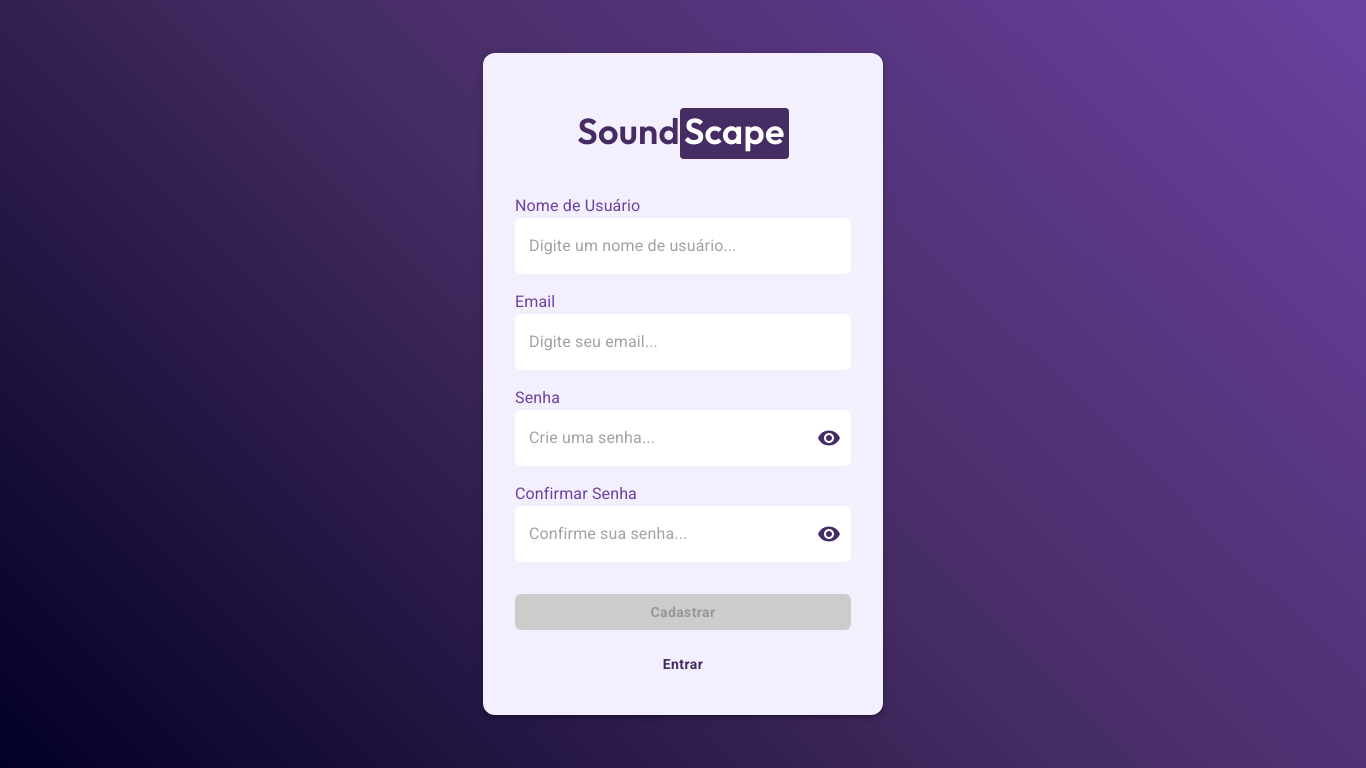
Test: Register Component › deve exibir notificação de erro genérico quando a API retorna um erro desconhecido
Type "user" into the field with placeholder "Digite um nome de usuário..." at (683, 246), box x1=515 y1=218 x2=851 y2=274
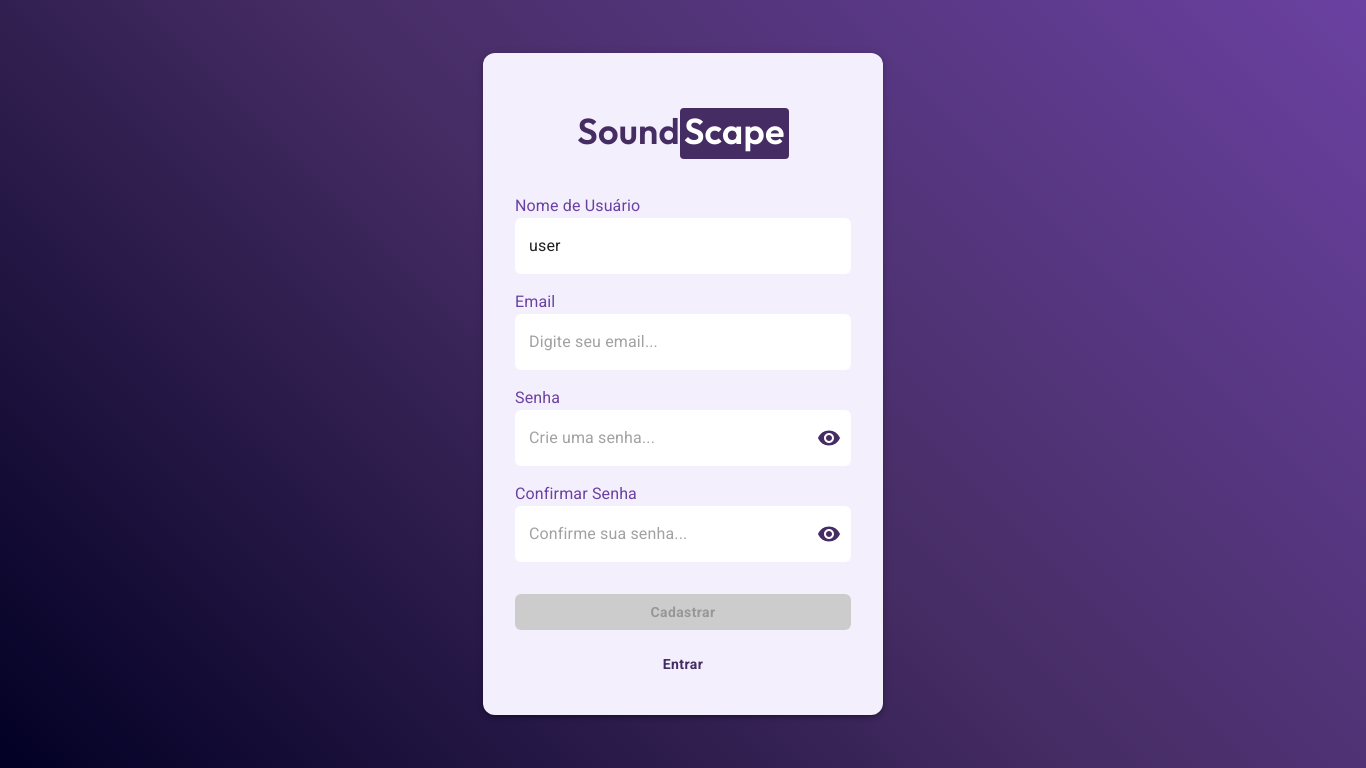
Type "user@example.com" into the field with placeholder "Digite seu email..." at (683, 342), box x1=515 y1=314 x2=851 y2=370
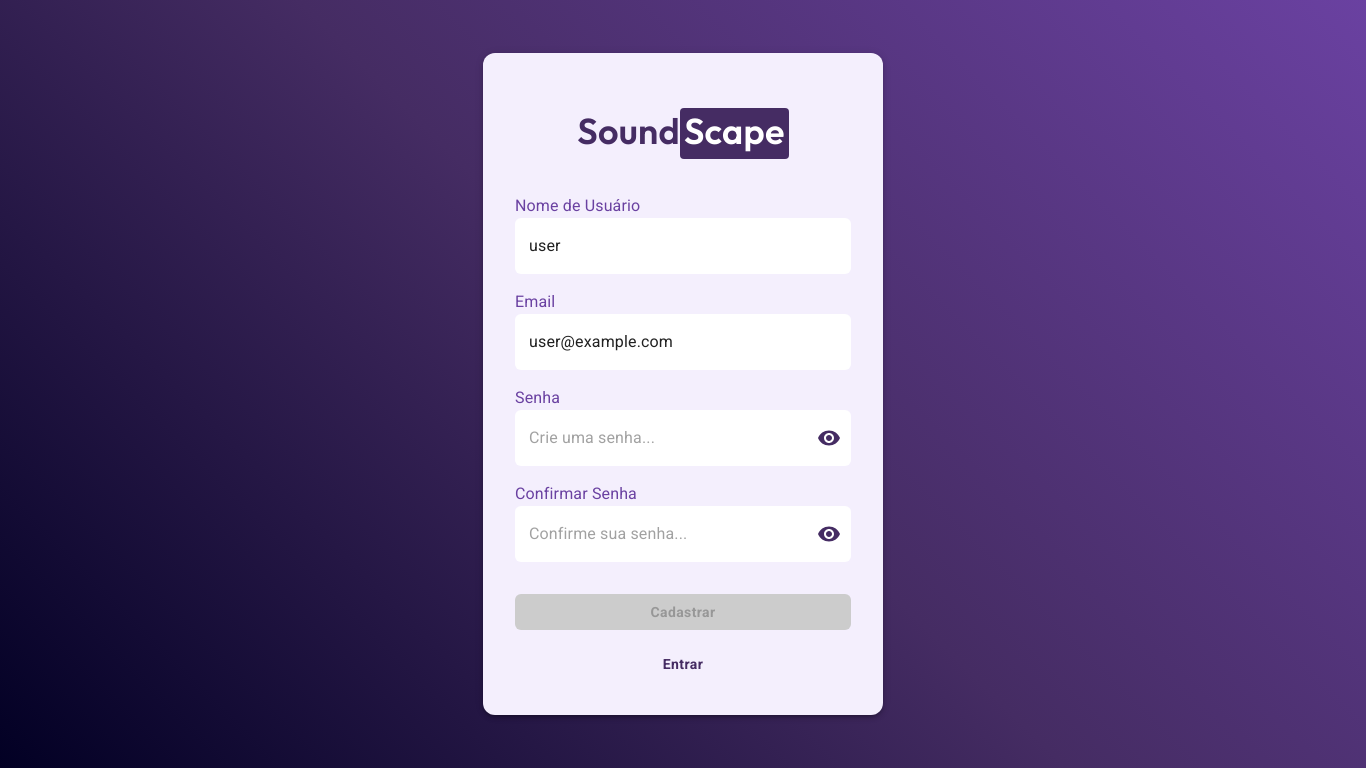
Type "Password123!" into the password field with placeholder "Crie uma senha..." at (658, 438), box x1=515 y1=410 x2=801 y2=466
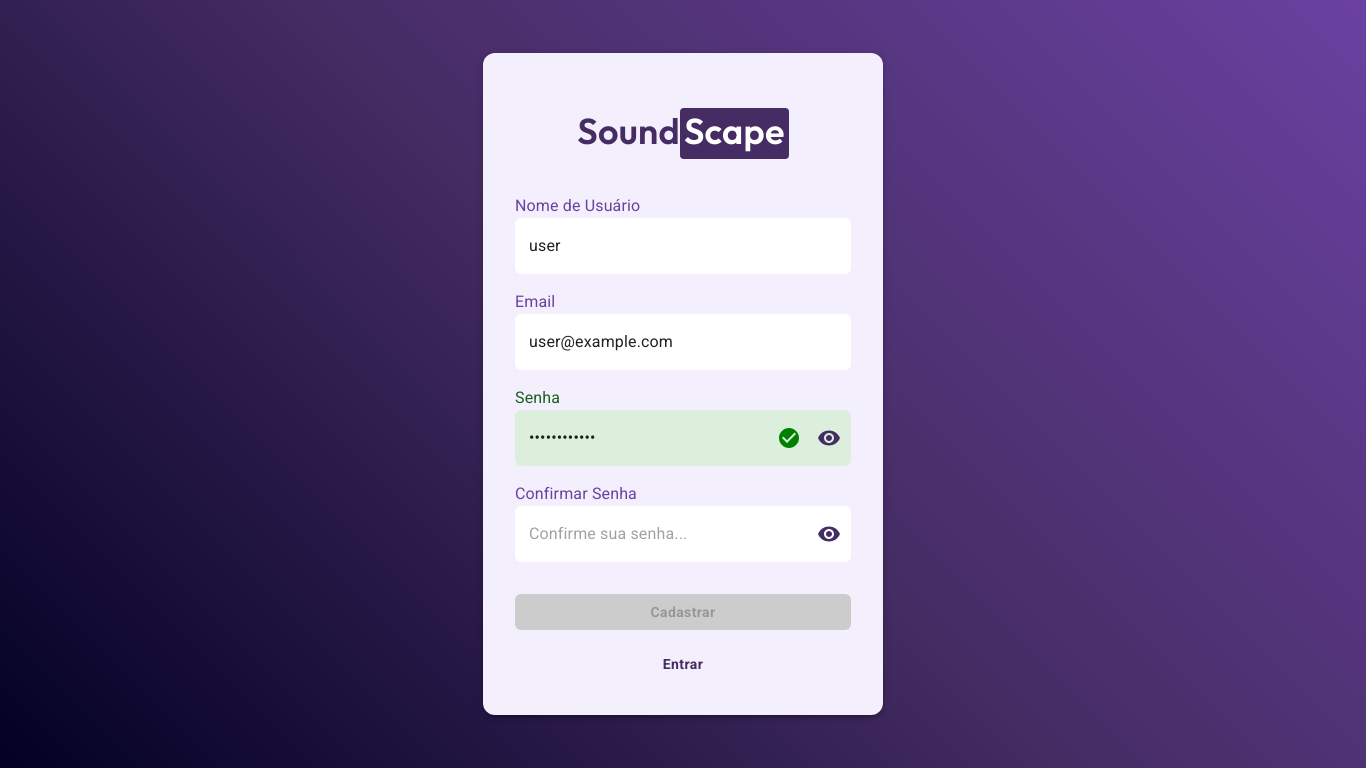
Type "Password123!" into the password field with placeholder "Confirme sua senha..." at (658, 534), box x1=515 y1=506 x2=801 y2=562
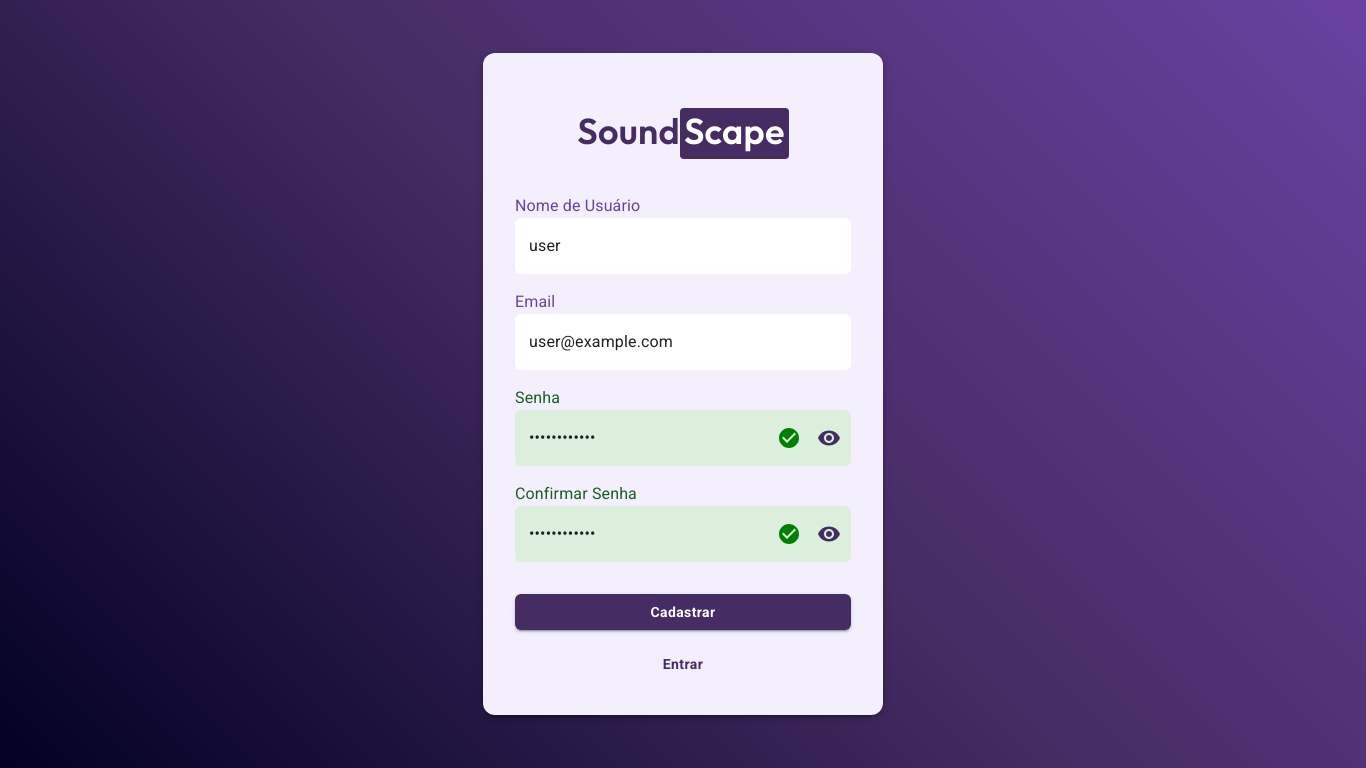
Click the button "Cadastrar" at (683, 612), box x1=515 y1=594 x2=851 y2=630
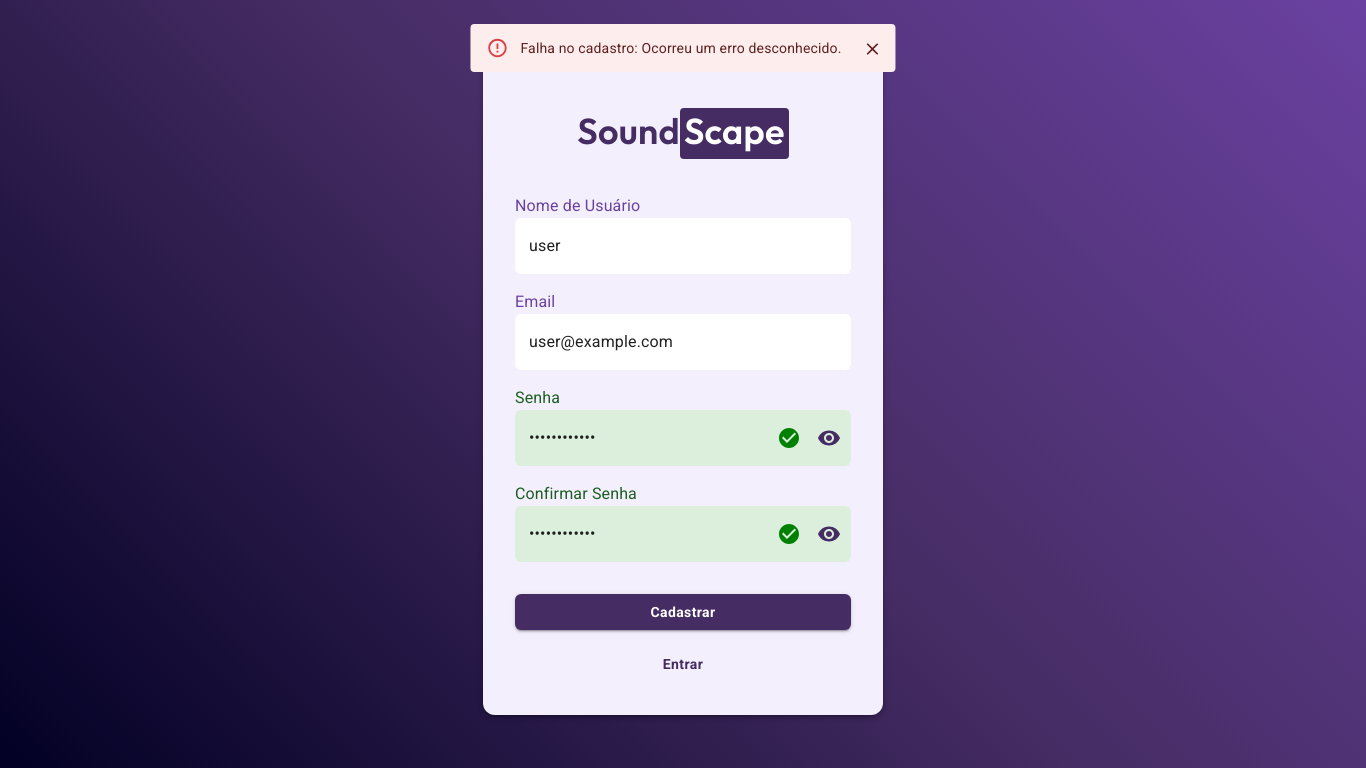
Expected: the text "Falha no cadastro: Ocorreu um erro desconhecido." is shown, x1=520 y1=40 x2=842 y2=56
